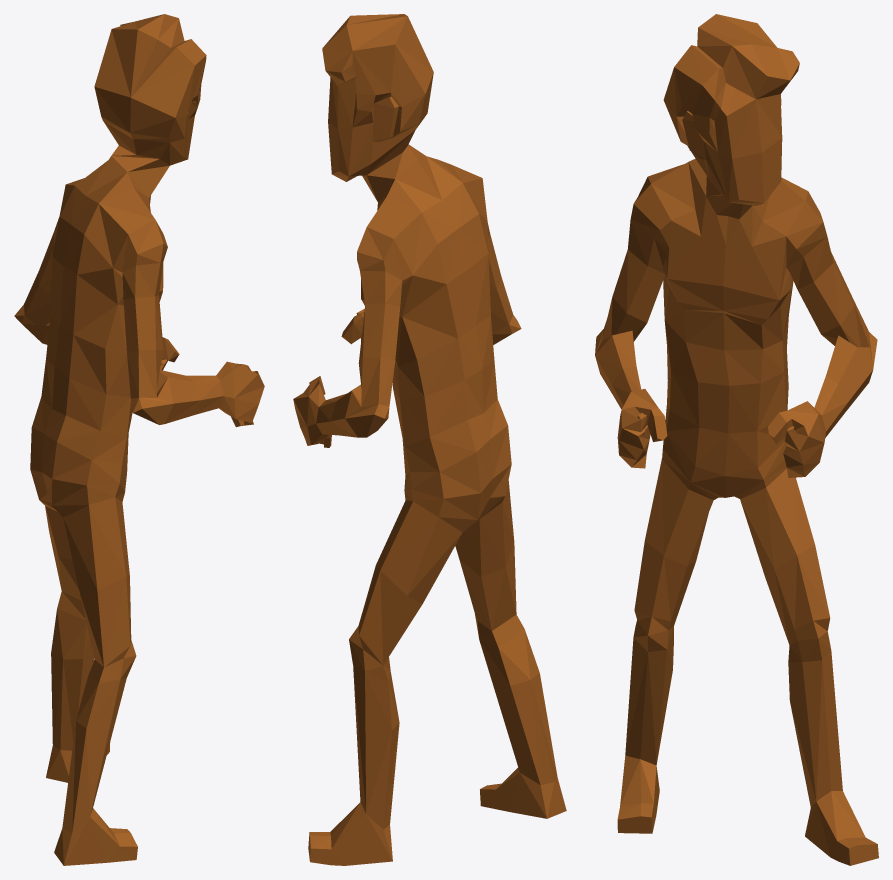
Rendered from VR_Unit1_3d_asset#2.fbx.
3 views of the same model, side by side, from view 1: azimuth 30°, elevation 25°; view 2: azimuth 150°, elevation 25°; view 3: azimuth 270°, elevation 25° (orthographic). The views are drawn at different scales.
Visible parts, largest first — view 1: SM_Pawn_Idle_Male_01; view 2: SM_Pawn_Idle_Male_01; view 3: SM_Pawn_Idle_Male_01.
Boxes of the visible parts, x1,y1,x2,y2 form: SM_Pawn_Idle_Male_01: [14, 14, 264, 865]; SM_Pawn_Idle_Male_01: [293, 14, 566, 865]; SM_Pawn_Idle_Male_01: [595, 14, 878, 865].
Bounding box in the file's own units: 0.5499 × 2.01 × 0.613.
